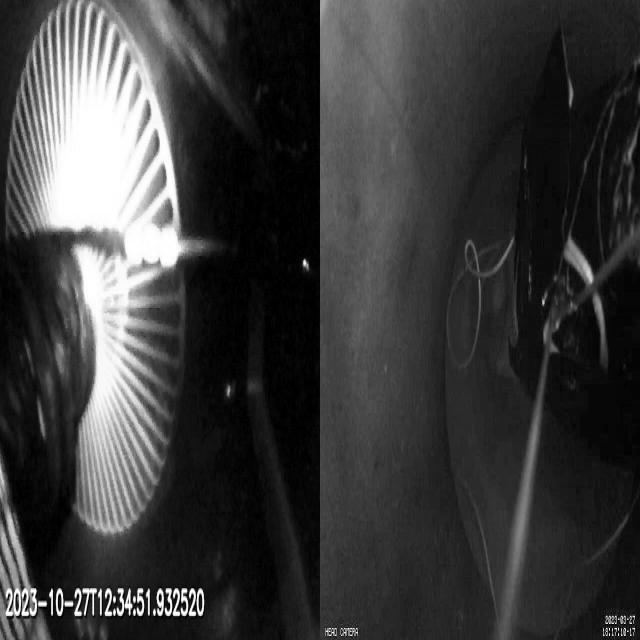white-dots: (124, 222, 178, 271)
